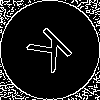K: (25, 25, 81, 81)
